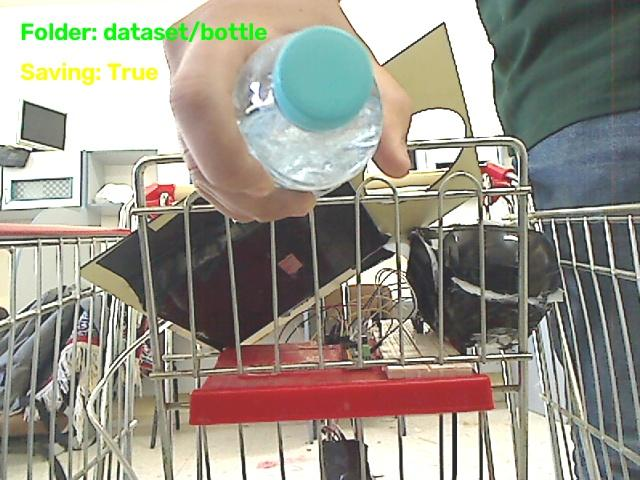Bottle: (234, 28, 381, 194)
